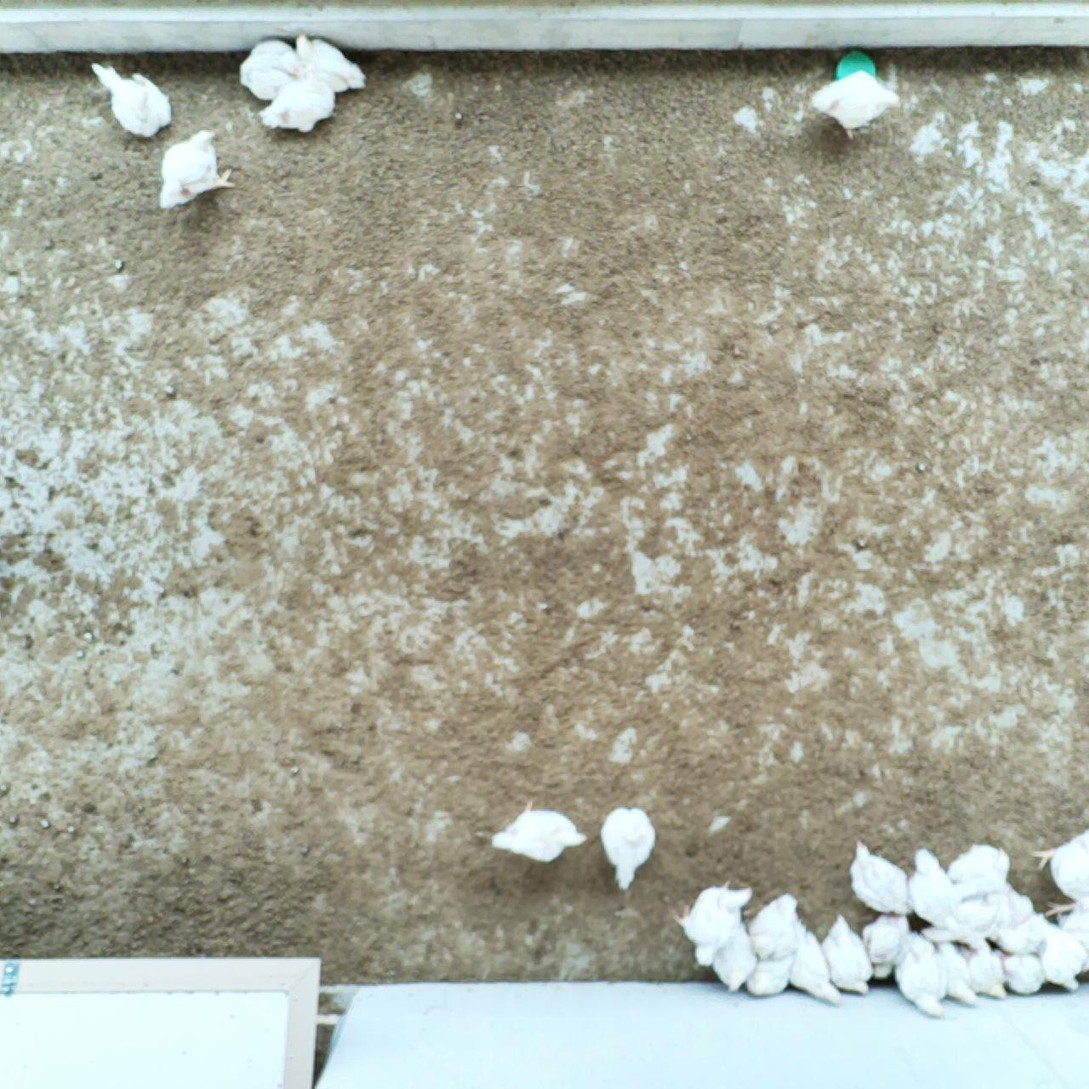chicken: (679, 878, 752, 965), (492, 798, 587, 863), (160, 131, 235, 211), (94, 65, 174, 138), (815, 70, 900, 138), (791, 929, 849, 1004), (897, 934, 948, 1019), (604, 807, 655, 890), (822, 917, 871, 1001), (711, 927, 773, 990), (262, 77, 334, 131), (1036, 830, 1089, 902), (854, 846, 909, 915), (912, 851, 958, 929), (1040, 922, 1089, 995), (298, 36, 368, 87), (240, 43, 301, 100), (863, 914, 915, 977), (949, 844, 1009, 898), (938, 936, 984, 1006), (754, 893, 800, 960), (966, 941, 1009, 1001), (1046, 902, 1089, 960), (999, 949, 1041, 997)
